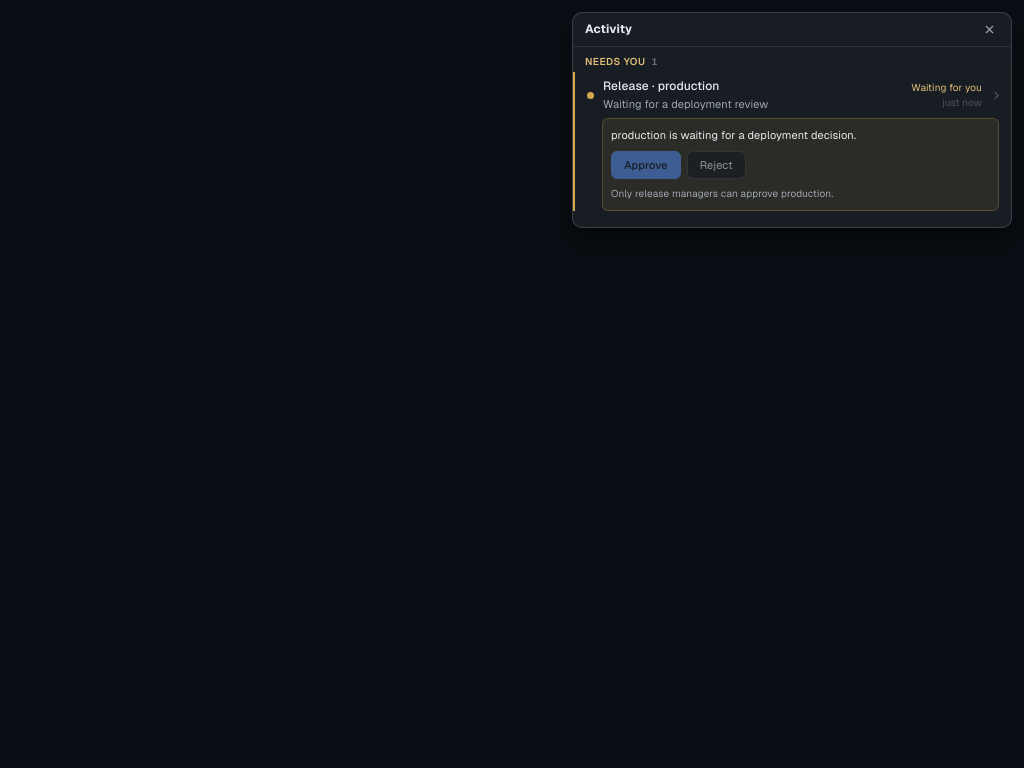
ActivityDock › keeps the technical detail collapsed until it is asked for
Expected: the text "release.yml" is not shown
Click the button "Release · production". click: [661, 86]
box: [575,72,1011,118]
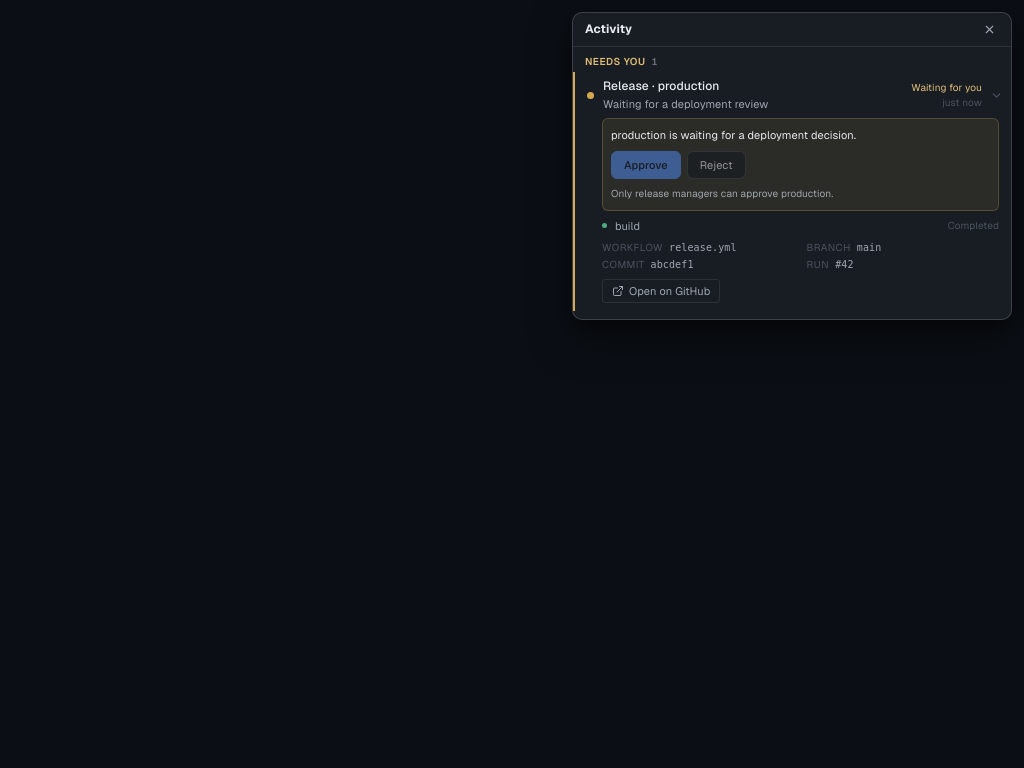
Result: the text "release.yml" is shown at [669,241,737,254]
Result: the text "abcdef1" is shown at [650,258,694,271]
Result: the text "#42" is shown at [835,258,854,271]
